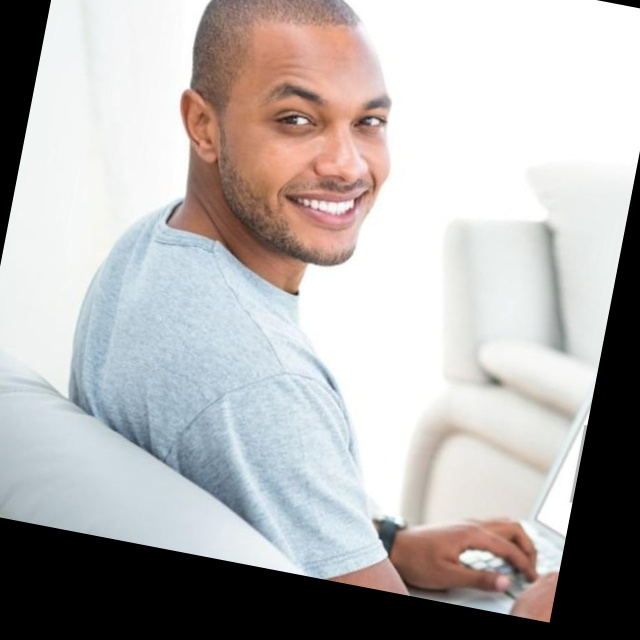Sin_Casco_Mascarrilla: (155, 0, 424, 272)
